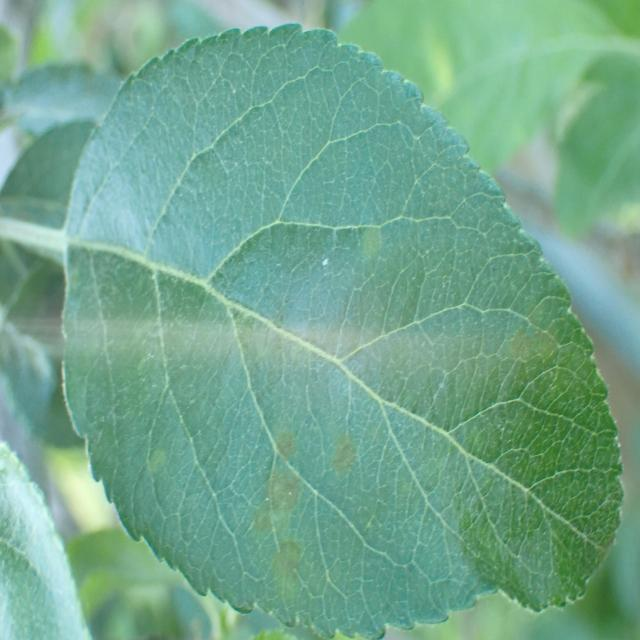scab: (84, 178, 568, 622)
